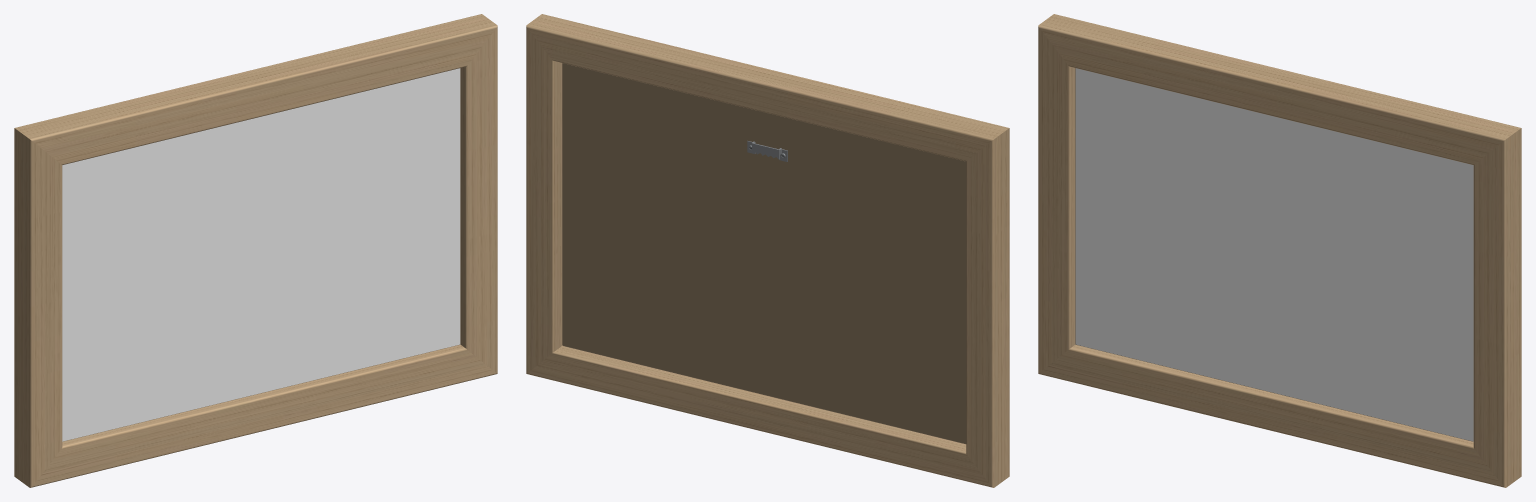
Rendered from oak_frame_landscape.glb.
3 renders of one model, left to right at view 1: azimuth 30°, elevation 25°; view 2: azimuth 150°, elevation 25°; view 3: azimuth 330°, elevation 25°, orthographic.
Parts seen in each view (by area): view 1: Photo_Surface, Frame_Body, Back_Panel; view 2: Back_Panel, Frame_Body; view 3: Photo_Surface, Frame_Body, Back_Panel.
Boxes of the visible parts, x1=… form: Photo_Surface: x1=62, y1=68, x2=460, y2=441; Frame_Body: x1=14, y1=14, x2=497, y2=487; Back_Panel: x1=63, y1=68, x2=460, y2=441; Back_Panel: x1=562, y1=63, x2=966, y2=444; Frame_Body: x1=526, y1=14, x2=1009, y2=487; Photo_Surface: x1=1075, y1=68, x2=1473, y2=441; Frame_Body: x1=1038, y1=14, x2=1521, y2=487; Back_Panel: x1=1075, y1=68, x2=1472, y2=441.
Size of the model in its own units: 0.348 by 0.248 by 0.022.
5 materials, 1 textured.
